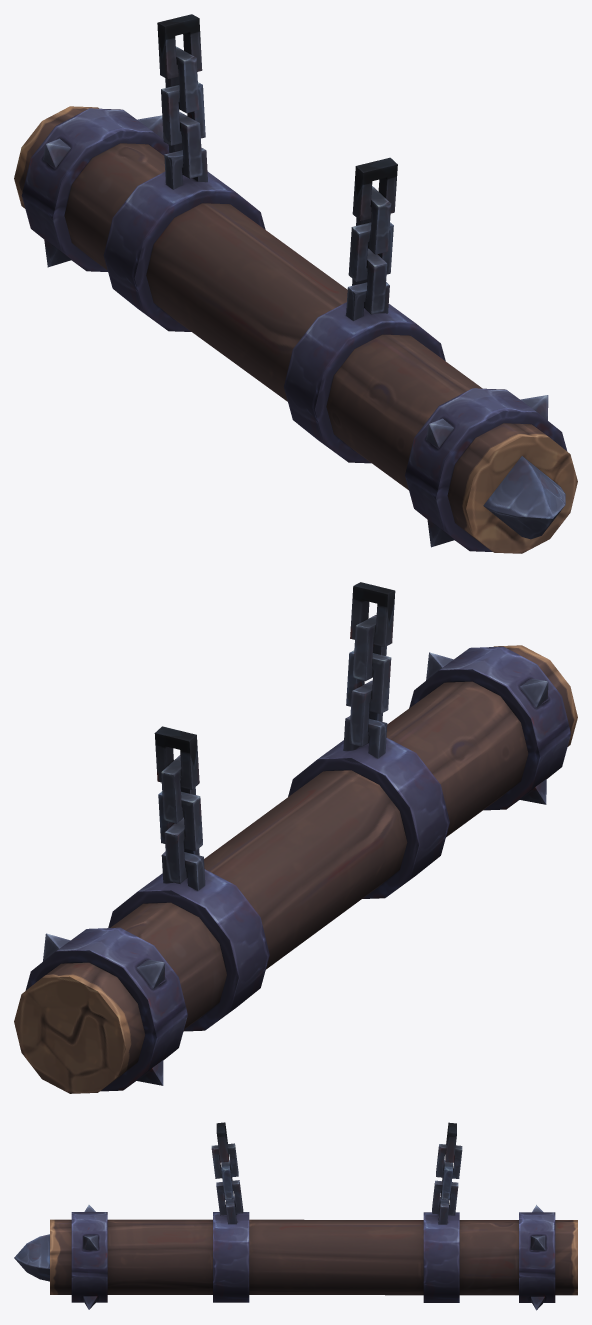
File: battering ram_part_03.fbx
3 views of the same model, one above another, from view 1: azimuth 30°, elevation 25°; view 2: azimuth 150°, elevation 25°; view 3: azimuth 270°, elevation 25° (orthographic). The views are drawn at different scales.
Visible parts, largest first — view 1: battering_ram_part_03; view 2: battering_ram_part_03; view 3: battering_ram_part_03.
Boxes of the visible parts, x1,y1,x2,y2 form: battering_ram_part_03: (14,14,577,553); battering_ram_part_03: (14,582,577,1093); battering_ram_part_03: (14,1122,577,1310).
Size of the model in its own units: 0.5806 by 1.21 by 3.59.
